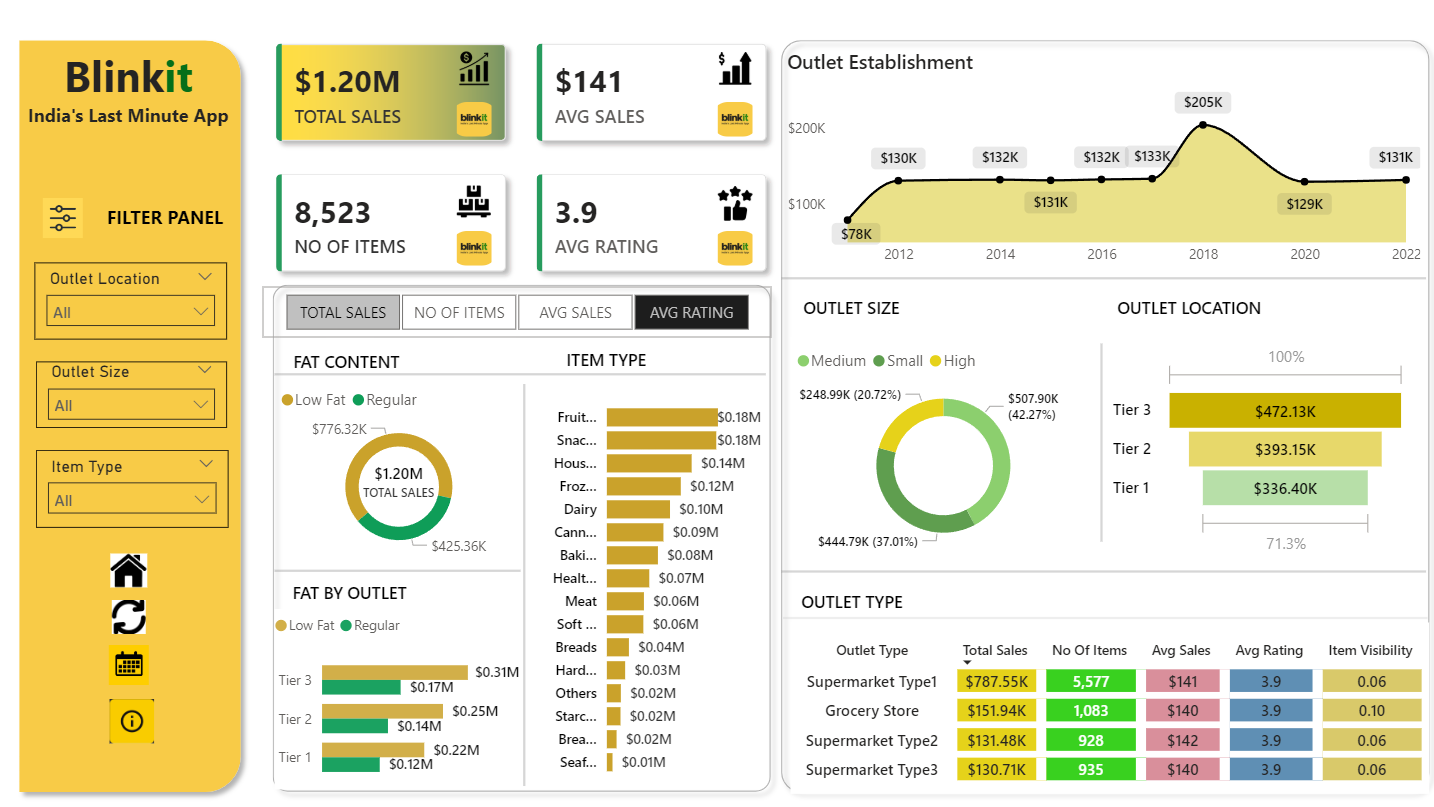

The page's visual inventory and layout, read from the dashboard file:
{"tool":"powerbi","page":{"name":"Home","canvas":[1280,720],"ordinal":0},"visuals":[{"type":"shape","box":[10.6,29.2,213.6,682],"z":0},{"type":"textbox","box":[19.9,38.5,192.4,91.5],"z":1000},{"type":"cardVisual","fields":{"Data":["BlinkIT Grocery Data.TOTAL SALES","BlinkIT Grocery Data.AVG SALES","BlinkIT Grocery Data.NO OF ITEMS","BlinkIT Grocery Data.AVG RATING"]},"box":[234.8,29.2,457.7,226.9],"z":2000},{"type":"image","box":[400,48,42.5,30.5],"z":3000},{"type":"image","box":[630,48,42.5,30.5],"z":4000},{"type":"image","box":[400,165,42.5,30],"z":5000},{"type":"image","box":[630,167.2,42.5,30.5],"z":6000},{"type":"image","box":[400,93,42.5,30.5],"z":7000},{"type":"image","box":[400,207,42.5,30.5],"z":8000},{"type":"image","box":[630,207,42.5,30.5],"z":9000},{"type":"image","box":[630,93,42.5,30.5],"z":10000},{"type":"shape","box":[234.8,245.5,457.7,465.7],"z":11000},{"type":"slicer","fields":{"Values":["Parameter.Parameter"]},"box":[234.8,256.1,448.5,45.1],"z":12000},{"type":"donutChart","title":"Fat Content","fields":{"Y":["BlinkIT Grocery Data.TOTAL SALES"],"Category":["BlinkIT Grocery Data.Item Fat Content"]},"box":[245,335.7,218.9,164.5],"z":13000},{"type":"cardVisual","fields":{"Data":["BlinkIT Grocery Data.TOTAL SALES"]},"box":[315,408.7,79.6,42.5],"z":14000},{"type":"clusteredBarChart","fields":{"Y":["BlinkIT Grocery Data.TOTAL SALES"],"Category":["BlinkIT Grocery Data.Outlet Location Type"],"Series":["BlinkIT Grocery Data.Item Fat Content"]},"box":[245,540,218.9,159],"z":15000},{"type":"textbox","box":[245,305.8,126.8,29.8],"z":16000},{"type":"textbox","box":[245,510,132.7,30],"z":17000},{"type":"shape","box":[245,497.6,217.6,17.2],"z":18000},{"type":"shape","box":[245,325.1,433.9,17.2],"z":19000},{"type":"shape","box":[455,342.3,19.9,355],"z":20000},{"type":"clusteredBarChart","fields":{"Y":["BlinkIT Grocery Data.TOTAL SALES"],"Category":["BlinkIT Grocery Data.Item Type"]},"box":[473.7,342.3,205,355],"z":21000},{"type":"textbox","box":[473.7,305.2,127.4,30],"z":22000},{"type":"shape","box":[683.3,29.2,590.4,682],"z":23000},{"type":"areaChart","title":"Outlet Establishment","fields":{"Y":["BlinkIT Grocery Data.TOTAL SALES"],"Category":["BlinkIT Grocery Data.Outlet Establishment Year"]},"box":[692.6,45.1,569.2,200.3],"z":24000},{"type":"shape","box":[692.6,240.2,569.2,17.2],"z":25000},{"type":"donutChart","fields":{"Y":["BlinkIT Grocery Data.TOTAL SALES"],"Category":["BlinkIT Grocery Data.Outlet Size"]},"box":[700.6,301.2,269.3,196.4],"z":26000},{"type":"funnel","fields":{"Category":["BlinkIT Grocery Data.Outlet Location Type"],"Y":["BlinkIT Grocery Data.TOTAL SALES"]},"box":[980.5,301.2,269.3,196.4],"z":27000},{"type":"shape","box":[965,305.8,19.4,175],"z":28000},{"type":"textbox","box":[700,258.1,110,29.8],"z":29000},{"type":"textbox","box":[980,258.1,145,29.8],"z":30000},{"type":"shape","box":[692.6,500,569.2,15.9],"z":31000},{"type":"textbox","box":[700,518,111,30],"z":32000},{"type":"tableEx","fields":{"Values":["BlinkIT Grocery Data.Outlet Type","BlinkIT Grocery Data.TOTAL SALES","BlinkIT Grocery Data.NO OF ITEMS","BlinkIT Grocery Data.AVG SALES","BlinkIT Grocery Data.AVG RATING","Avg(BlinkIT Grocery Data.Item Visibility)"]},"box":[700.6,552,563.9,151.3],"z":33000},{"type":"shape","box":[693.9,540,569.2,15.9],"z":34000},{"type":"image","box":[32.9,177.1,50,35],"z":35000},{"type":"textbox","box":[82.9,177.1,130,35],"z":36000},{"type":"slicer","fields":{"Values":["BlinkIT Grocery Data.Outlet Location Type"]},"box":[32.9,234.3,170,68],"z":37000},{"type":"slicer","fields":{"Values":["BlinkIT Grocery Data.Outlet Size"]},"box":[34.3,321.4,168.6,58.6],"z":38000},{"type":"slicer","fields":{"Values":["BlinkIT Grocery Data.Item Type"]},"box":[34.2,400,169.7,68.4],"z":39000},{"type":"image","box":[94.7,490.8,42.1,30.3],"z":39001},{"type":"image","box":[94.7,532.9,42.1,30.3],"z":39002},{"type":"image","box":[94,572.4,45,35.5],"z":39003},{"type":"image","box":[94,619.7,50,39.5],"z":39004}]}

Visuals, with their boxes in screenshot pixels (x1, y1, x2, y2), scaled from the page's 1280x720 canvas onto the 1434x807 screenshot:
shape: <box>12,33,251,797</box>
textbox: <box>22,43,238,146</box>
cardVisual - BlinkIT Grocery Data.TOTAL SALES x BlinkIT Grocery Data.AVG SALES: <box>263,33,776,287</box>
image: <box>448,54,496,88</box>
image: <box>706,54,753,88</box>
image: <box>448,185,496,219</box>
image: <box>706,187,753,222</box>
image: <box>448,104,496,138</box>
image: <box>448,232,496,266</box>
image: <box>706,232,753,266</box>
image: <box>706,104,753,138</box>
shape: <box>263,275,776,797</box>
slicer - Parameter.Parameter: <box>263,287,766,338</box>
"Fat Content" donutChart: <box>274,376,520,561</box>
cardVisual - BlinkIT Grocery Data.TOTAL SALES: <box>353,458,442,506</box>
clusteredBarChart - BlinkIT Grocery Data.TOTAL SALES x BlinkIT Grocery Data.Outlet Location Type: <box>274,605,520,783</box>
textbox: <box>274,343,417,376</box>
textbox: <box>274,572,423,605</box>
shape: <box>274,558,518,577</box>
shape: <box>274,364,761,384</box>
shape: <box>510,384,532,782</box>
clusteredBarChart - BlinkIT Grocery Data.TOTAL SALES x BlinkIT Grocery Data.Item Type: <box>531,384,760,782</box>
textbox: <box>531,342,673,376</box>
shape: <box>766,33,1427,797</box>
"Outlet Establishment" areaChart: <box>776,51,1414,275</box>
shape: <box>776,269,1414,289</box>
donutChart - BlinkIT Grocery Data.TOTAL SALES x BlinkIT Grocery Data.Outlet Size: <box>785,338,1087,558</box>
funnel - BlinkIT Grocery Data.Outlet Location Type x BlinkIT Grocery Data.TOTAL SALES: <box>1098,338,1400,558</box>
shape: <box>1081,343,1103,539</box>
textbox: <box>784,289,907,323</box>
textbox: <box>1098,289,1260,323</box>
shape: <box>776,560,1414,578</box>
textbox: <box>784,581,909,614</box>
tableEx - BlinkIT Grocery Data.Outlet Type x BlinkIT Grocery Data.TOTAL SALES: <box>785,619,1417,788</box>
shape: <box>777,605,1415,623</box>
image: <box>37,198,93,238</box>
textbox: <box>93,198,239,238</box>
slicer - BlinkIT Grocery Data.Outlet Location Type: <box>37,263,227,339</box>
slicer - BlinkIT Grocery Data.Outlet Size: <box>38,360,227,426</box>
slicer - BlinkIT Grocery Data.Item Type: <box>38,448,228,525</box>
image: <box>106,550,153,584</box>
image: <box>106,597,153,631</box>
image: <box>105,642,156,681</box>
image: <box>105,695,161,739</box>
